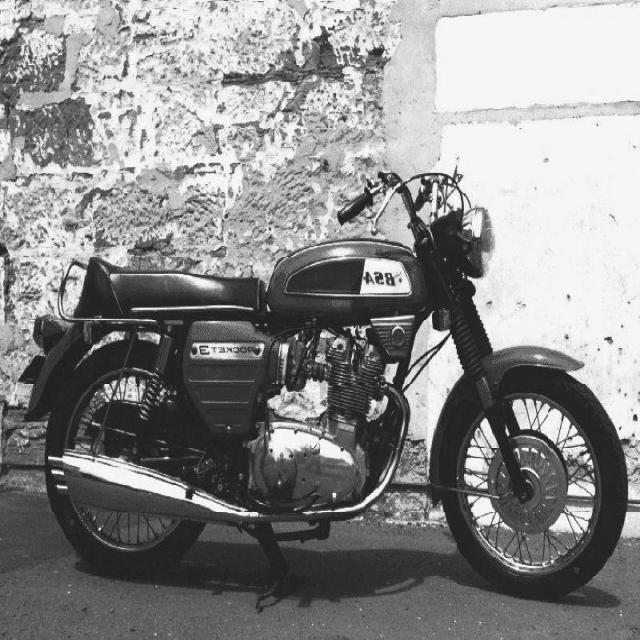Motorcycle: (21, 169, 628, 596)
